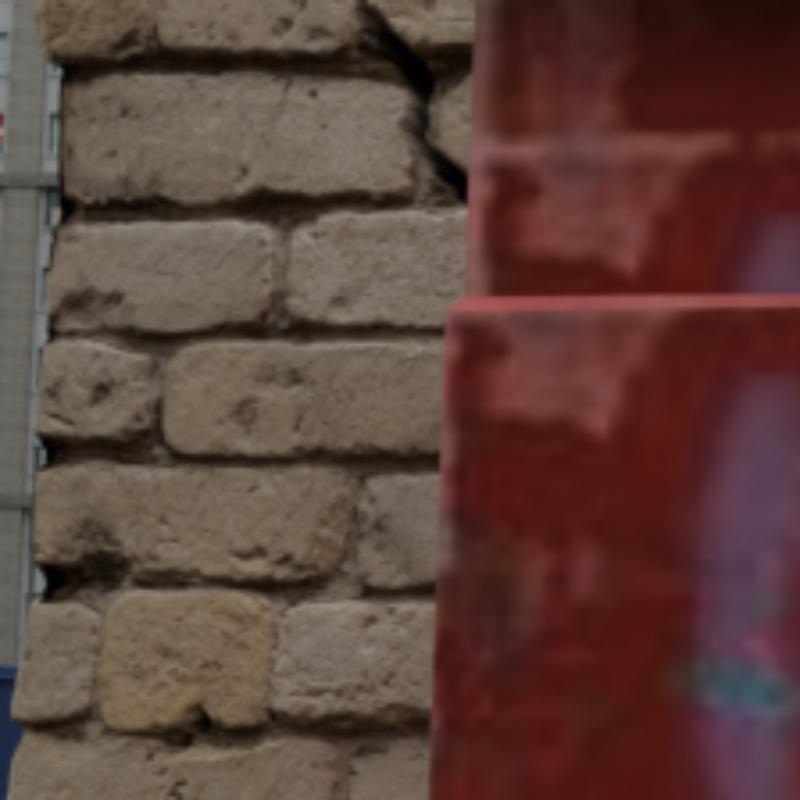pothole: (350, 0, 464, 204)
